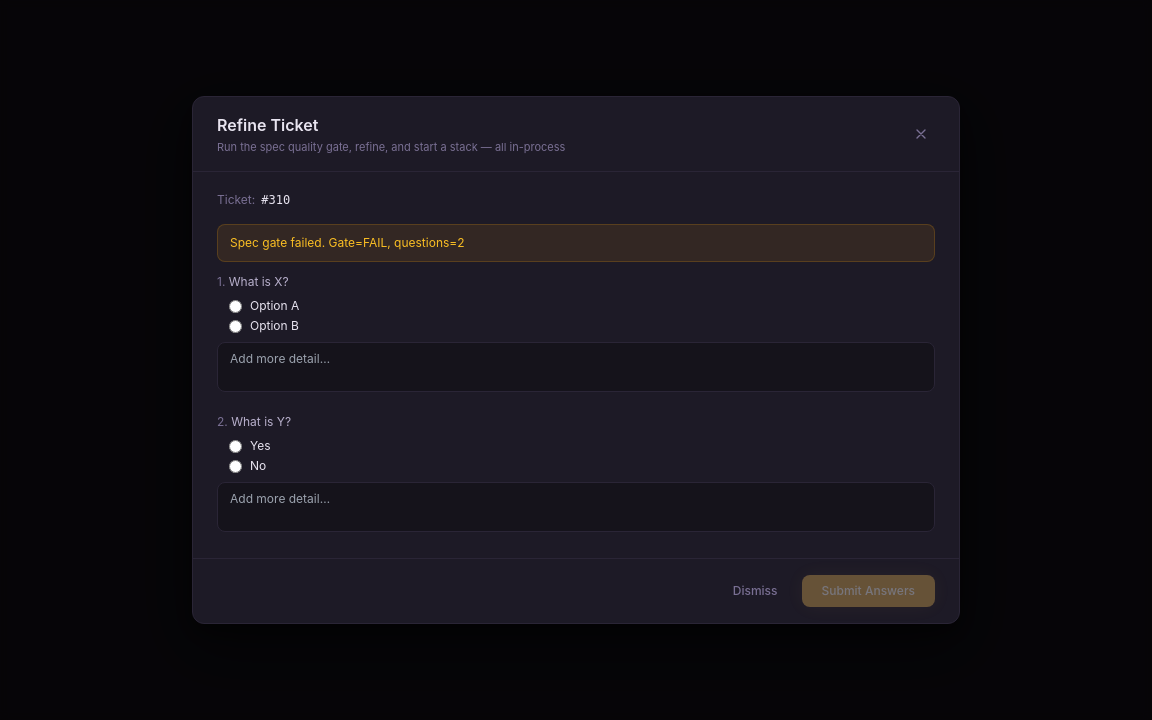
Test: RefineTicketDialog › submit is enabled when additional context text is provided (no option required)
The image size is (1152, 720).
# Type text into both textareas
Type "custom detail for q1" into the text box with test id "refine-answer-0" at {"x": 576, "y": 367}, box x1=217 y1=342 x2=935 y2=392
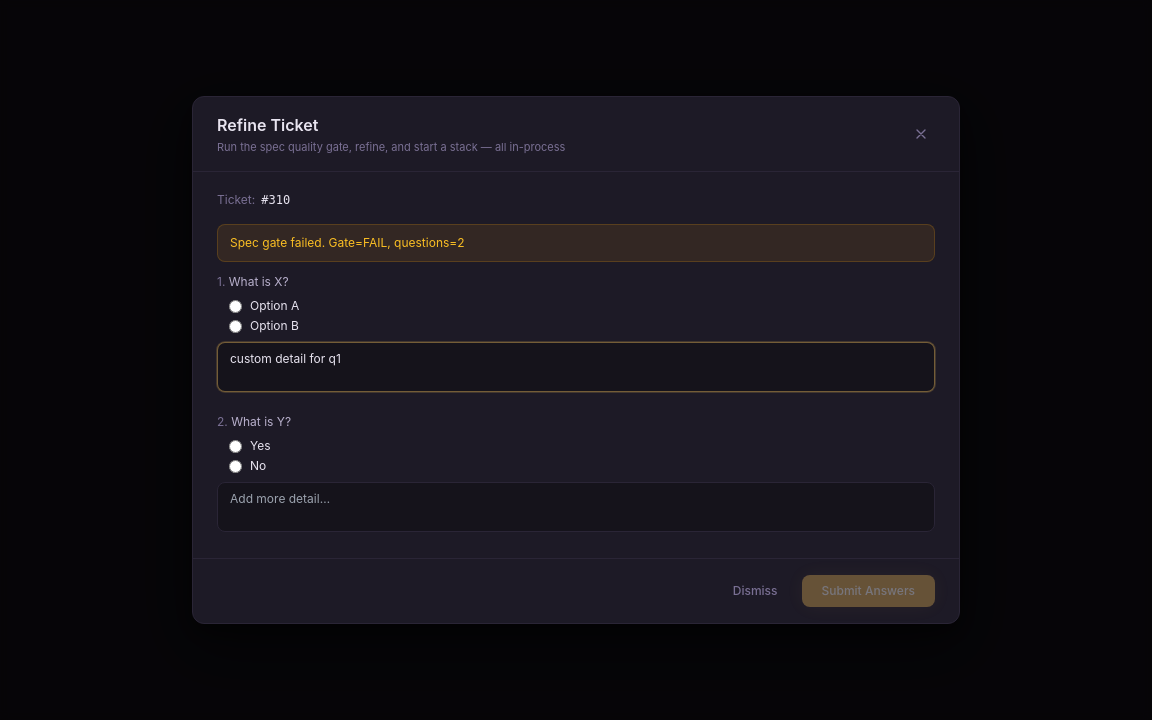
Type "custom detail for q2" into the text box with test id "refine-answer-1" at {"x": 576, "y": 507}, box x1=217 y1=482 x2=935 y2=532
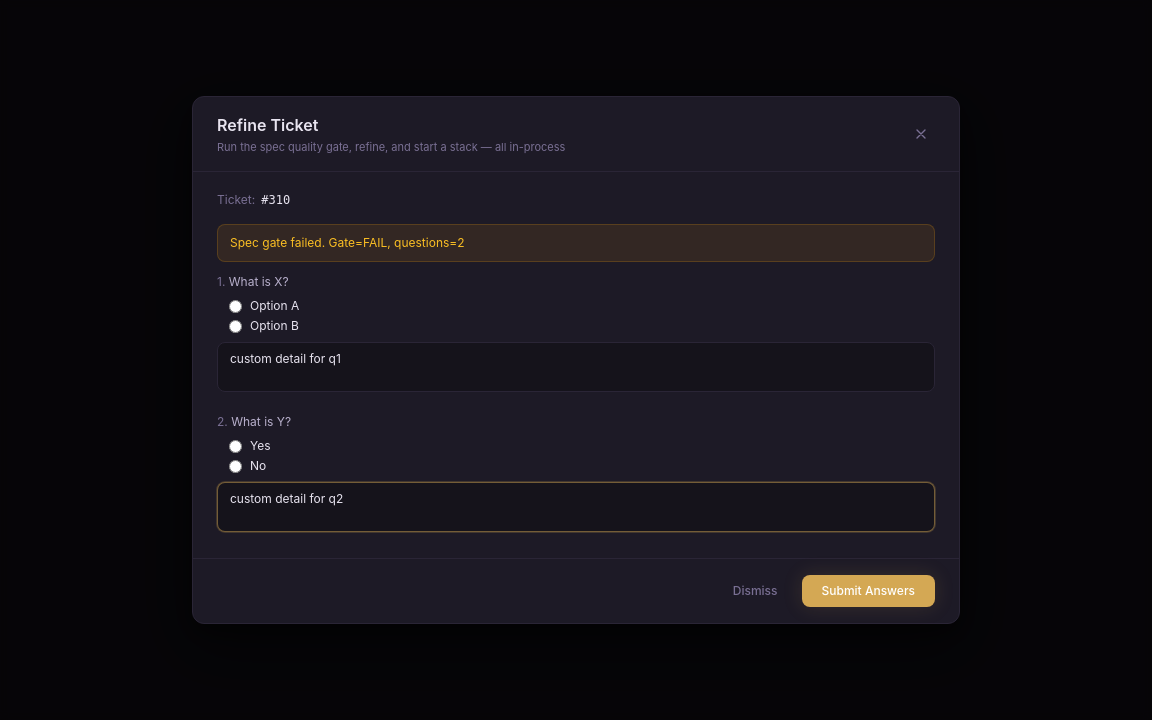
Check: the button with test id "refine-submit-answers" is enabled, box x1=802 y1=575 x2=935 y2=607
